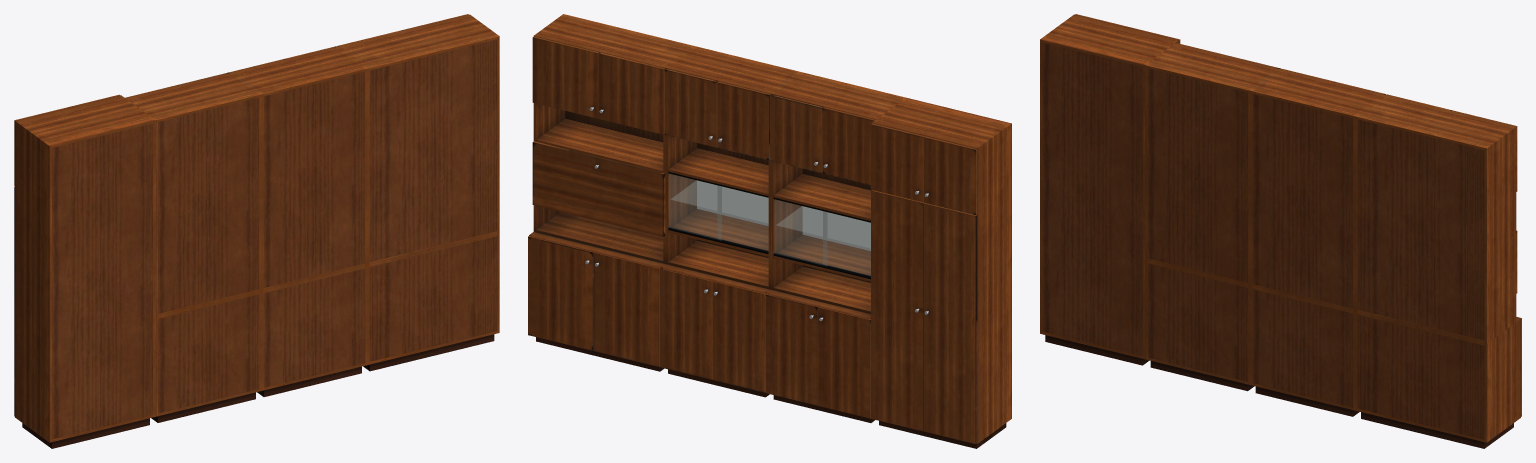
File: stenka_long_web.glb
The picture shows the model from 3 angles, left to right: view 1: azimuth 30°, elevation 25°; view 2: azimuth 150°, elevation 25°; view 3: azimuth 330°, elevation 25°; orthographic projection.
Parts seen in each view (by area): view 1: StenkaLong_Body; view 2: StenkaLong_Body, Door_4L0_R_Mesh, Door_4L0_L_Mesh, Flap_1U1_Mesh, Door_1L0_R_Mesh, Door_1L0_L_Mesh, Door_2L0_R_Mesh, Door_3L0_L_Mesh, Door_3L0_R_Mesh, Door_2L0_L_Mesh, Door_1U3_L_Mesh, Door_1U3_R_Mesh (+14 smaller); view 3: StenkaLong_Body.
Part boxes in pixels (bbox=[...]): StenkaLong_Body: bbox=[15, 14, 499, 448]; StenkaLong_Body: bbox=[529, 14, 1011, 448]; Door_4L0_R_Mesh: bbox=[923, 203, 977, 444]; Door_4L0_L_Mesh: bbox=[871, 190, 923, 431]; Flap_1U1_Mesh: bbox=[532, 141, 665, 236]; Door_1L0_R_Mesh: bbox=[594, 252, 660, 366]; Door_1L0_L_Mesh: bbox=[528, 235, 593, 350]; Door_2L0_R_Mesh: bbox=[712, 281, 765, 392]; Door_3L0_L_Mesh: bbox=[765, 293, 817, 405]; Door_3L0_R_Mesh: bbox=[818, 307, 870, 418]; Door_2L0_L_Mesh: bbox=[660, 268, 712, 379]; Door_1U3_L_Mesh: bbox=[532, 36, 599, 118]; Door_1U3_R_Mesh: bbox=[598, 52, 665, 134]; StenkaLong_Body: bbox=[1040, 14, 1520, 448].
Bounding box in the file's own units: 3.4 × 2.2 × 0.4979.
Materials: 4 (2 with a texture image).
